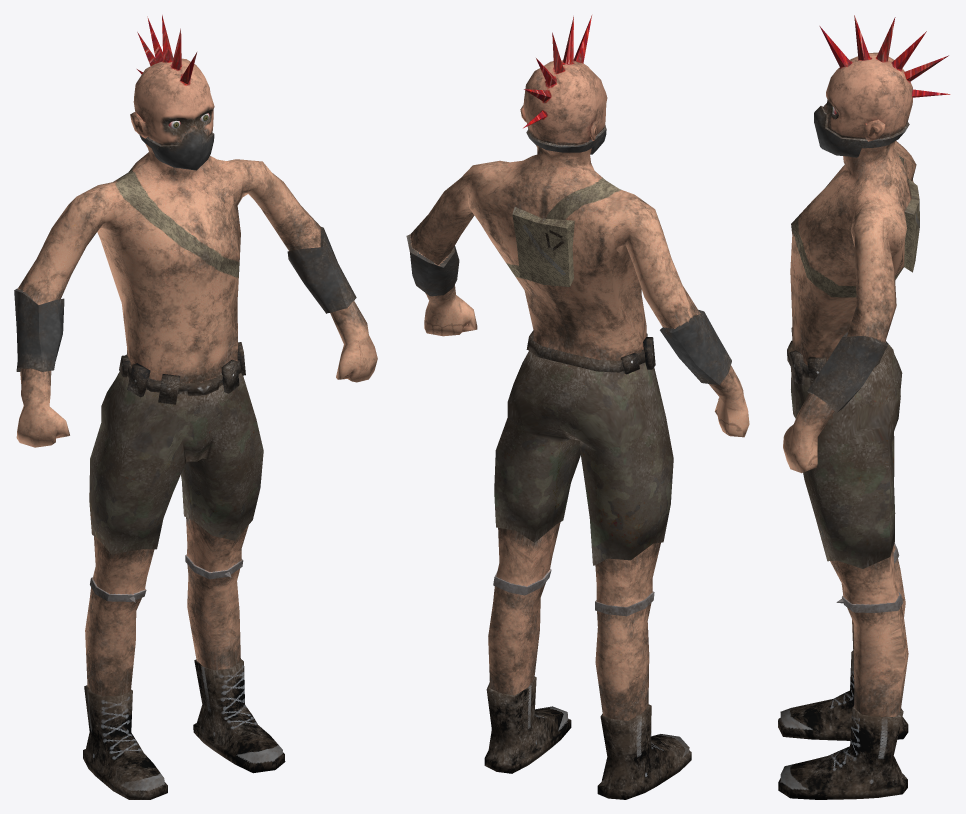
File: Anim_idle_npc2.0042.obj
3 views of the same model, side by side, from view 1: azimuth 30°, elevation 25°; view 2: azimuth 150°, elevation 25°; view 3: azimuth 270°, elevation 25° (orthographic). The views are drawn at different scales.
Parts seen in each view (by area): view 1: polySurface1; view 2: polySurface1; view 3: polySurface1.
Part boxes in pixels (x1,y1,x2,y2): polySurface1: [14, 15, 377, 799]; polySurface1: [406, 15, 749, 799]; polySurface1: [778, 15, 950, 799].
Bounding box in the file's own units: 4.91 × 10.18 × 2.14.
Materials: 2 (2 with a texture image).
